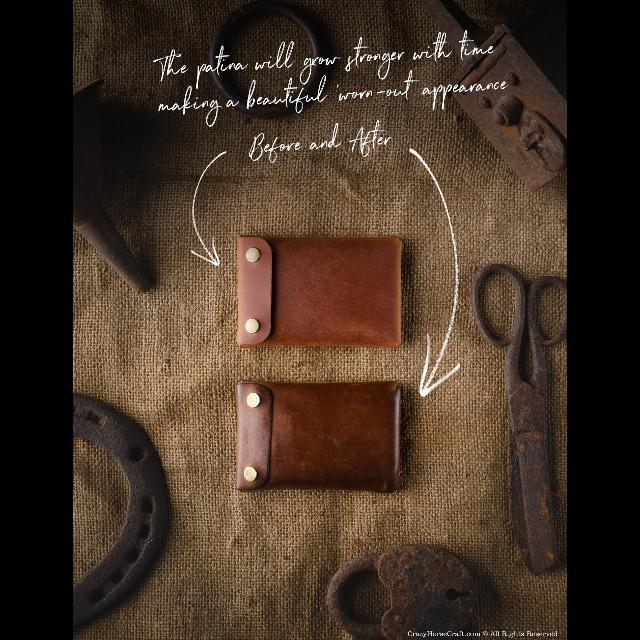wallet: (240, 378, 402, 490), (243, 237, 402, 343)
